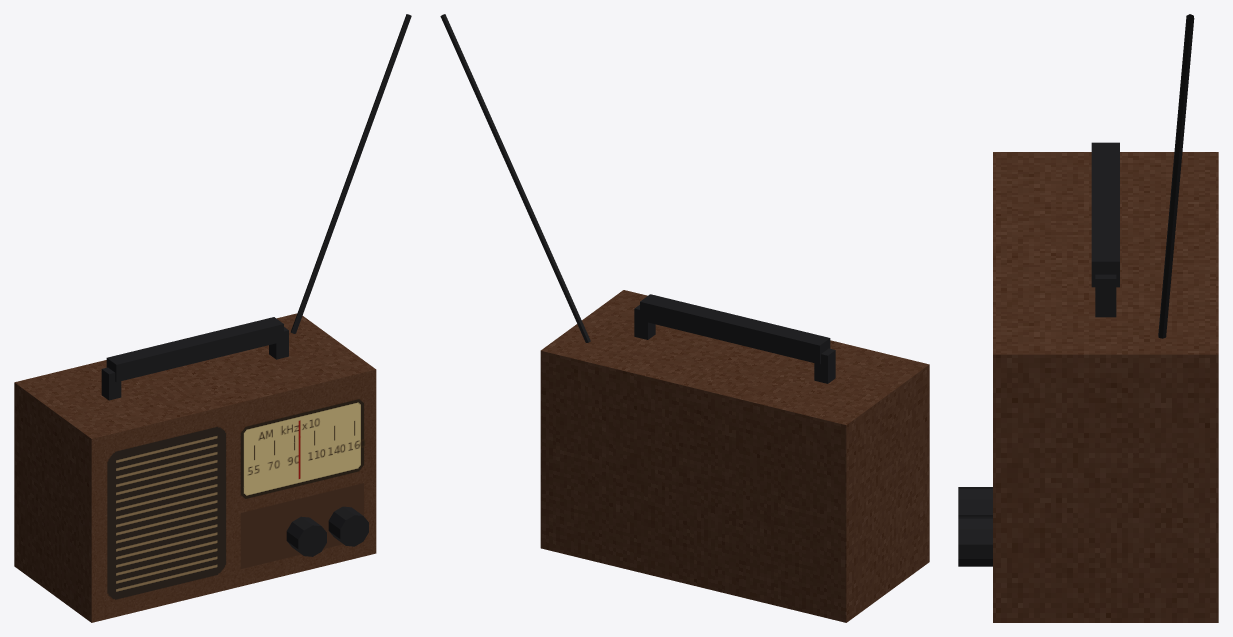
Rendered from SM_OpRoom_Radio.fbx.
3 views of the same model, side by side, from view 1: azimuth 30°, elevation 25°; view 2: azimuth 150°, elevation 25°; view 3: azimuth 270°, elevation 25° (orthographic). The views are drawn at different scales.
Parts seen in each view (by area): view 1: Radio; view 2: Radio; view 3: Radio.
Part boxes in pixels (x1,y1,x2,y2): Radio: (14,14,411,622); Radio: (440,14,929,622); Radio: (958,14,1218,622).
Bounding box in the file's own units: 0.4627 × 0.5313 × 0.1845.
Materials: 3 (3 with a texture image).
